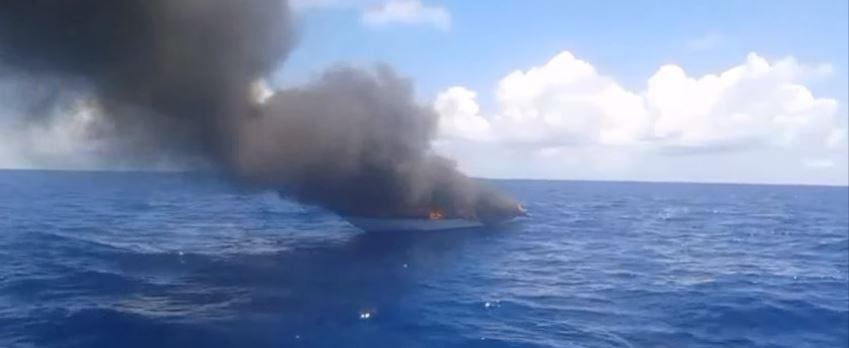smoke: (295, 80, 436, 208), (121, 5, 276, 100)
